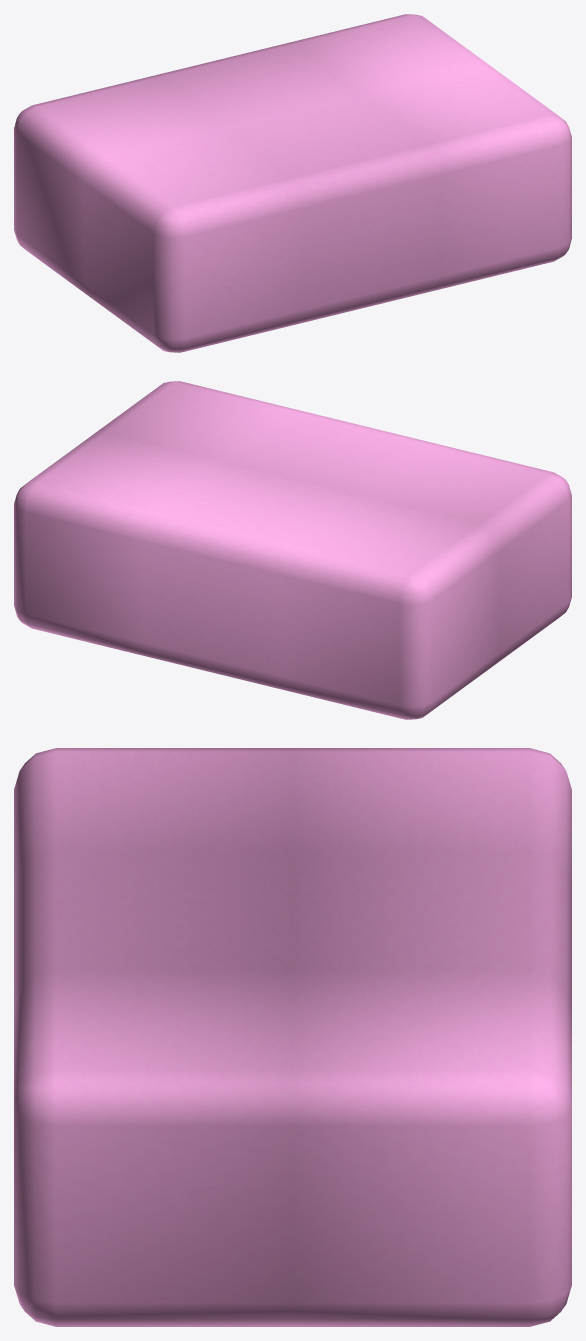
The model's file is __clay_block_01_37.obj.
3 views of the same model, one above another, from view 1: azimuth 30°, elevation 25°; view 2: azimuth 150°, elevation 25°; view 3: azimuth 270°, elevation 25° (orthographic). The views are drawn at different scales.
Visible parts, largest first — view 1: clay_block_37; view 2: clay_block_37; view 3: clay_block_37.
Boxes of the visible parts, x1,y1,x2,y2 form: clay_block_37: (14,14,571,352); clay_block_37: (14,381,571,719); clay_block_37: (14,748,571,1326).
Bounding box in the file's own units: 3 × 1 × 2.
Materials: 1 (1 with a texture image).
